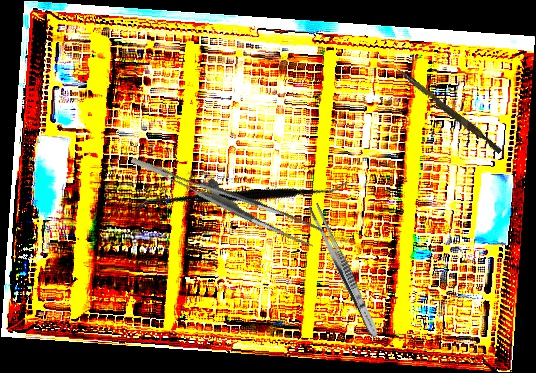Dressing Forceps: (305, 202, 383, 340)
Pusher: (392, 66, 505, 155)
Spatula Surgical: (132, 96, 350, 300)
Tissue Forceps: (130, 126, 323, 266)
